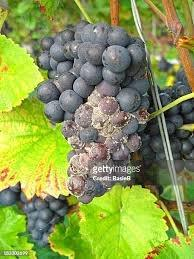Grape Rotten: (36, 19, 152, 204)
